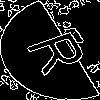R: (25, 25, 100, 77)
